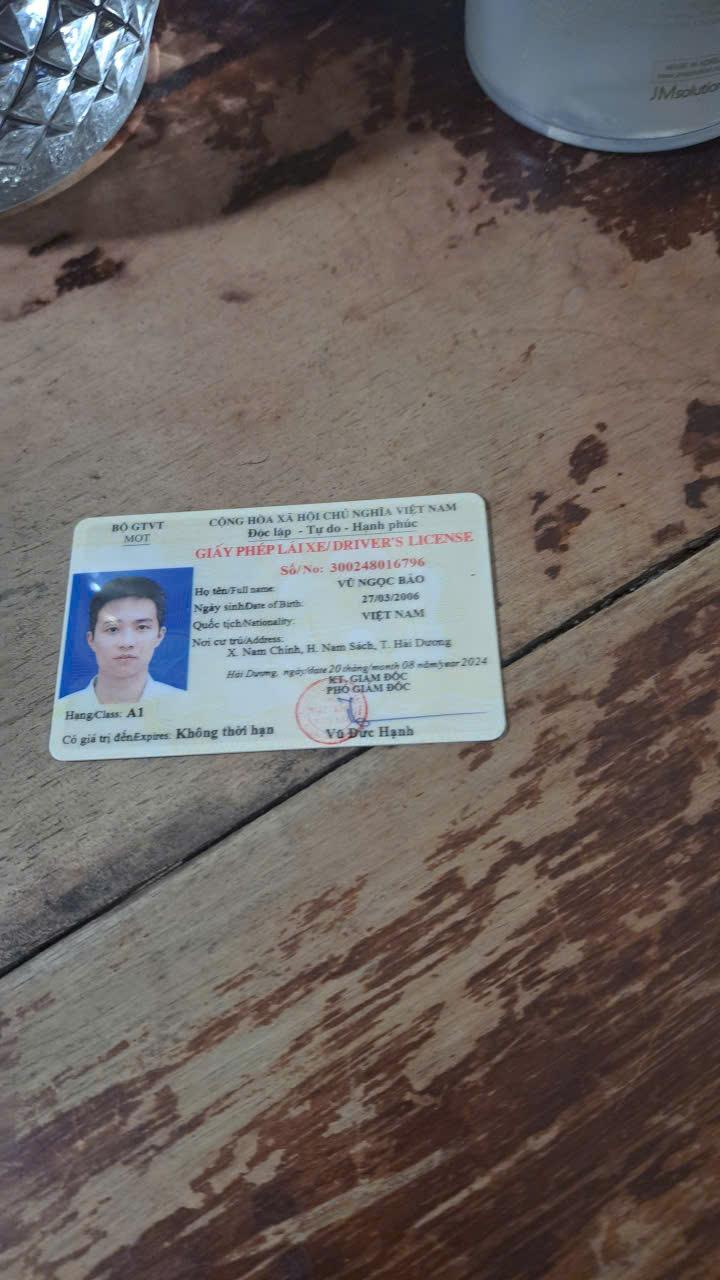gplx: (43, 485, 512, 765)
